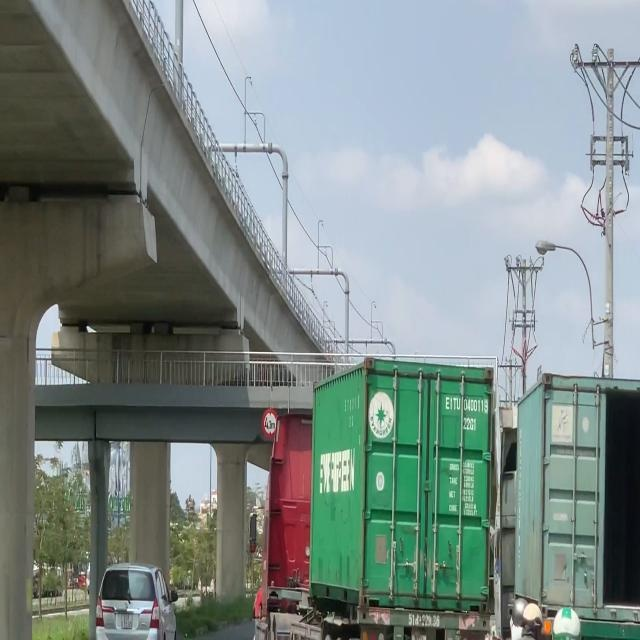bien_cam: (262, 408, 278, 439)
